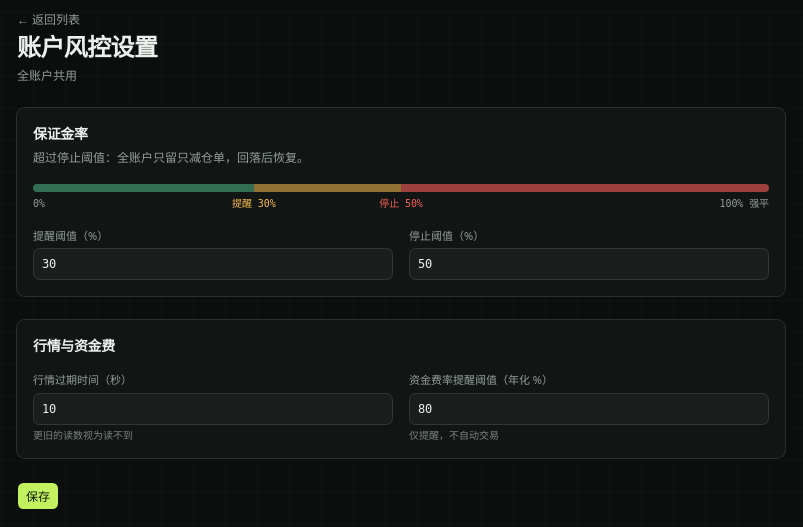
Test: 账户风控设置 › 保存之后又改了输入，不再说已保存
Click the button "保存" at x=38, y=496, box [17,482,59,510]
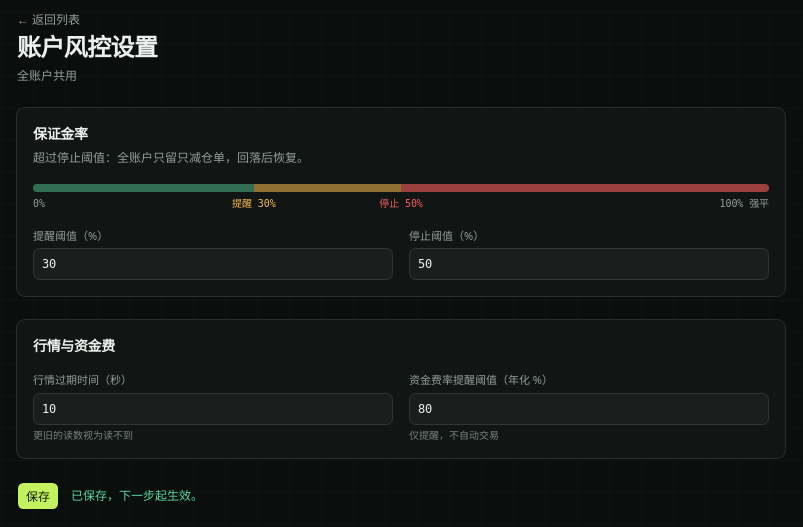
Check: the text "已保存，下一步起生效。" is shown, box [71,488,203,504]
Type "0" into the field showing "50" at x=589, y=264, box [409,248,769,280]
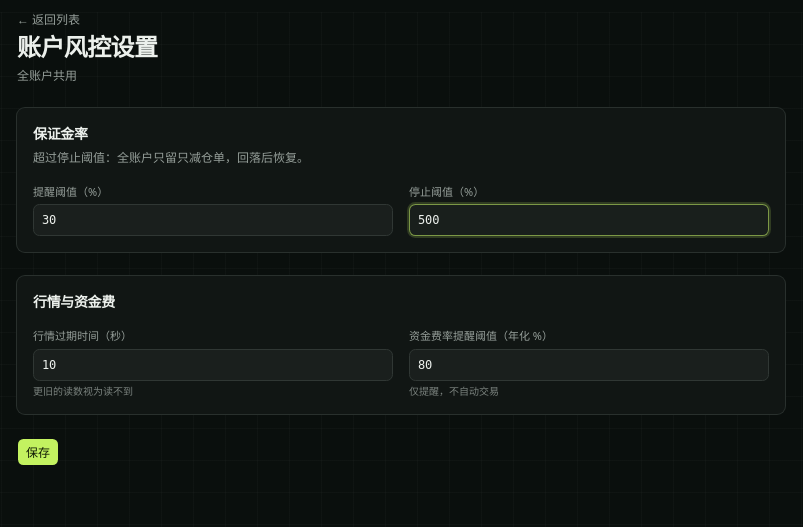
Check: the text "已保存" is gone
